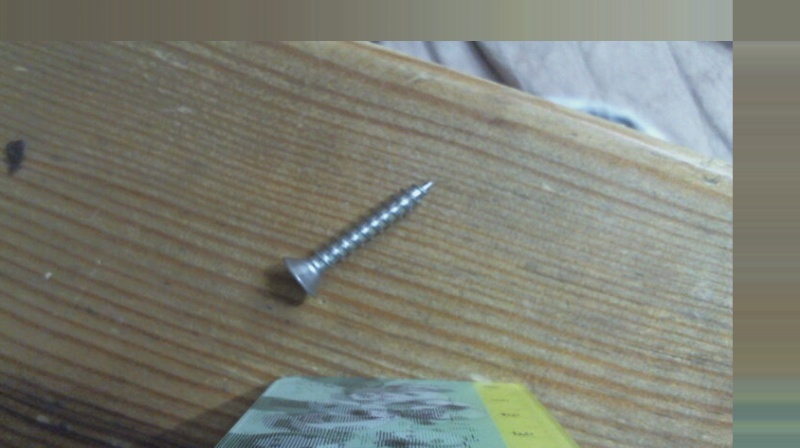S001: (276, 175, 437, 300)
